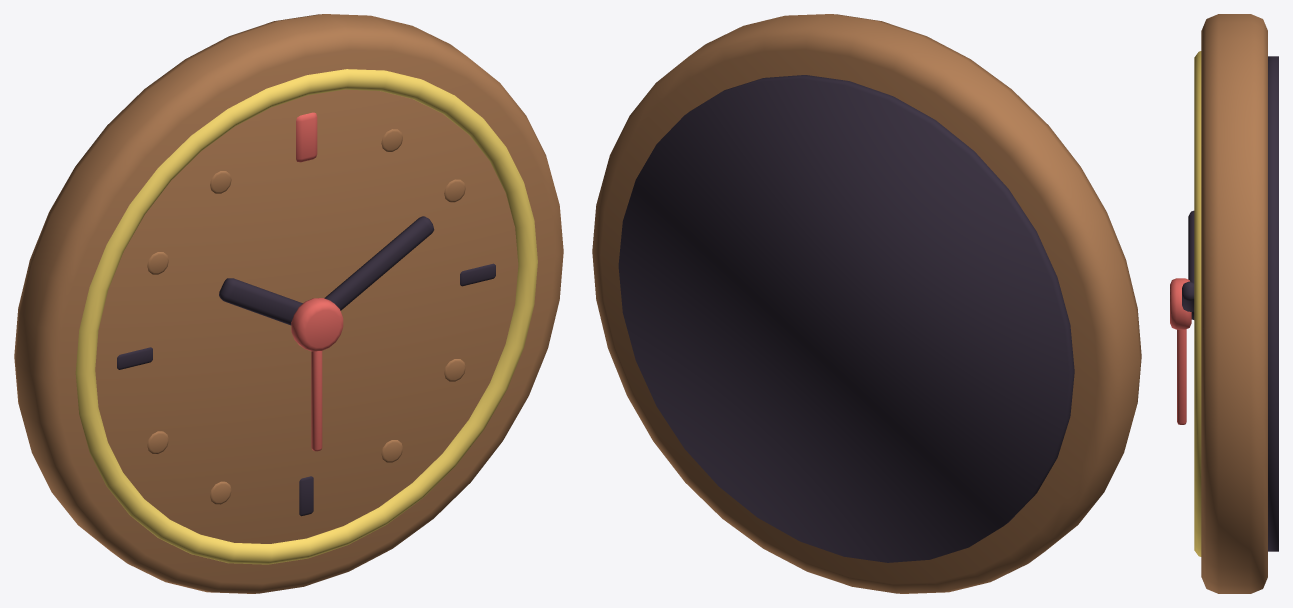
File: wall-clock.glb
3 renders of one model, left to right at view 1: azimuth 30°, elevation 25°; view 2: azimuth 150°, elevation 25°; view 3: azimuth 270°, elevation 25°, orthographic. The views are drawn at different scales.
Parts seen in each view (by area): view 1: DecWallClock_WoodBezel, DecWallClock_ButterRing, DecWallClock_BackingAndHands, DecWallClock_CoralAccents; view 2: DecWallClock_BackingAndHands, DecWallClock_WoodBezel; view 3: DecWallClock_WoodBezel, DecWallClock_BackingAndHands, DecWallClock_ButterRing, DecWallClock_CoralAccents.
Part boxes in pixels (x1=…): DecWallClock_WoodBezel: x1=14, y1=14, x2=563, y2=593; DecWallClock_ButterRing: x1=75, y1=69, x2=537, y2=564; DecWallClock_BackingAndHands: x1=117, y1=216, x2=495, y2=516; DecWallClock_CoralAccents: x1=291, y1=112, x2=343, y2=451; DecWallClock_BackingAndHands: x1=618, y1=75, x2=1074, y2=562; DecWallClock_WoodBezel: x1=592, y1=14, x2=1141, y2=593; DecWallClock_WoodBezel: x1=1201, y1=14, x2=1267, y2=593; DecWallClock_BackingAndHands: x1=1182, y1=56, x2=1278, y2=551; DecWallClock_ButterRing: x1=1194, y1=51, x2=1201, y2=556; DecWallClock_CoralAccents: x1=1170, y1=278, x2=1191, y2=424.
Size of the model in its own units: 0.54 by 0.54 by 0.101.
